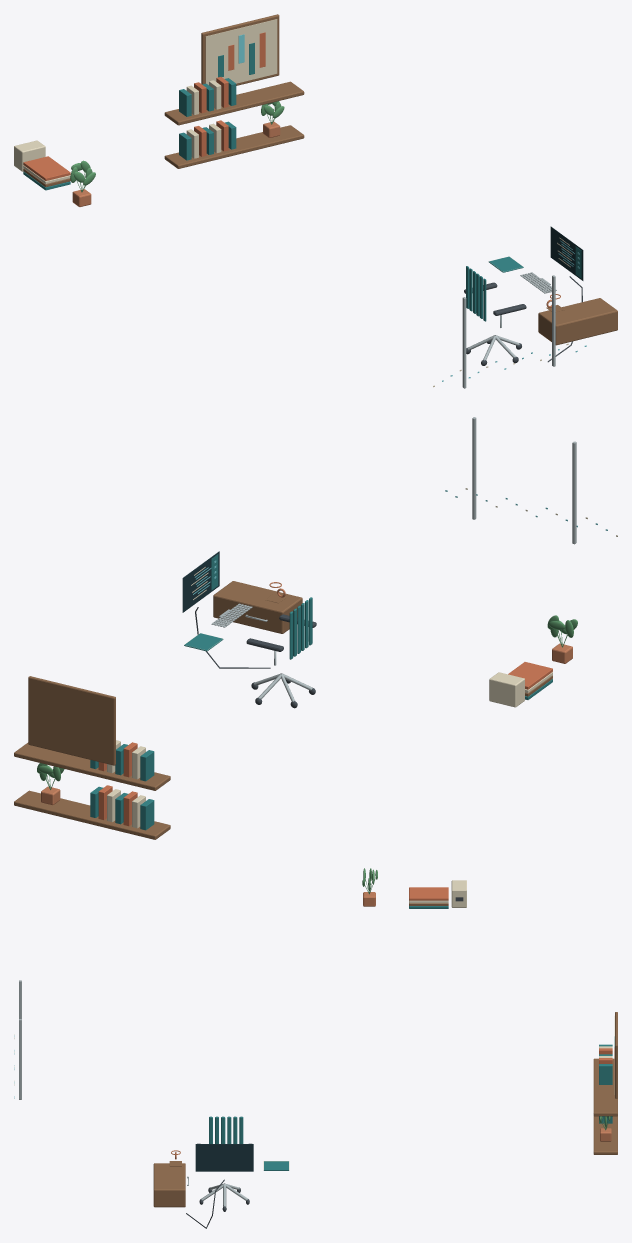
The model's file is office-high.glb.
3 views of the same model, one above another, from view 1: azimuth 30°, elevation 25°; view 2: azimuth 150°, elevation 25°; view 3: azimuth 270°, elevation 25° (orthographic). The views are drawn at different scales.
Parts seen in each view (by area): view 1: office Walnut, office Ivory, office Petrol teal, office Burnt orange, office Satin metal, office Editor ink, office Plant green, office Glazed clay, office Graphite; view 2: office Walnut, office Petrol teal, office Ivory, office Satin metal, office Burnt orange, office Editor ink, office Plant green, office Glazed clay, office Graphite; view 3: office Walnut, office Editor ink, office Petrol teal, office Ivory, office Burnt orange, office Satin metal.
Part boxes in pixels (<box>): office Walnut: <box>23,14,617,345</box>; office Ivory: <box>14,19,572,387</box>; office Petrol teal: <box>23,42,581,321</box>; office Burnt orange: <box>23,32,265,180</box>; office Satin metal: <box>462,272,556,388</box>; office Editor ink: <box>550,226,583,280</box>; office Plant green: <box>70,101,284,192</box>; office Glazed clay: <box>72,121,560,307</box>; office Graphite: <box>464,276,582,365</box>; office Walnut: <box>14,581,552,839</box>; office Petrol teal: <box>90,554,552,830</box>; office Ivory: <box>107,488,617,828</box>; office Satin metal: <box>211,417,576,701</box>; office Burnt orange: <box>98,662,552,826</box>; office Editor ink: <box>182,551,219,612</box>; office Plant green: <box>37,615,577,789</box>; office Glazed clay: <box>41,582,572,805</box>; office Graphite: <box>195,607,316,708</box>; office Walnut: <box>153,903,617,1207</box>; office Editor ink: <box>195,1144,253,1171</box>; office Petrol teal: <box>209,906,612,1170</box>; office Ivory: <box>14,880,614,1169</box>; office Burnt orange: <box>409,887,614,1080</box>; office Satin metal: <box>19,980,247,1206</box>.
Bounding box in the file's own units: 288 × 137 × 396.
